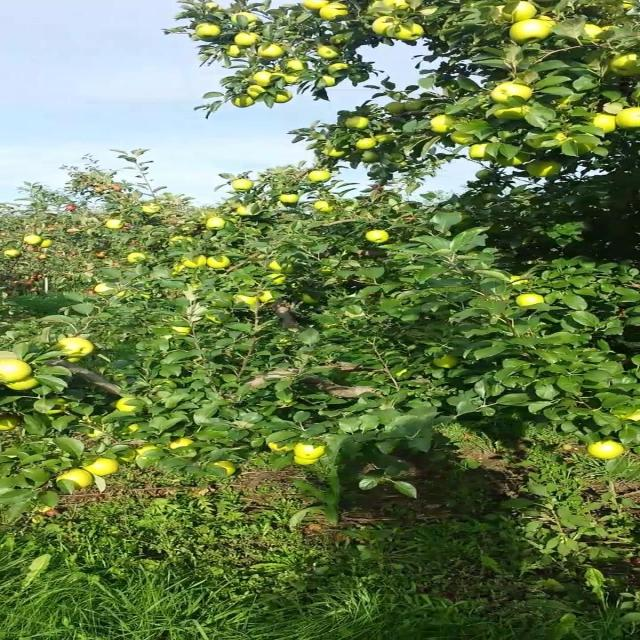apple: (0, 358, 40, 391), (489, 81, 533, 107), (509, 19, 551, 42), (496, 0, 536, 22), (560, 135, 600, 156), (58, 336, 96, 358), (524, 131, 569, 149), (0, 358, 31, 382), (609, 52, 640, 76), (587, 440, 624, 459), (58, 469, 93, 488), (524, 160, 562, 177), (391, 22, 424, 41), (84, 458, 118, 476), (491, 105, 529, 119), (293, 442, 324, 459), (320, 2, 349, 20), (371, 16, 398, 35), (616, 108, 640, 129), (496, 152, 531, 166), (553, 94, 583, 110), (580, 24, 604, 44), (431, 115, 456, 134), (193, 22, 222, 38), (229, 11, 258, 27), (591, 114, 616, 132), (611, 406, 640, 421), (433, 354, 460, 369), (582, 24, 604, 42), (44, 398, 67, 415), (258, 44, 284, 59), (116, 396, 140, 412), (209, 460, 236, 474), (233, 32, 260, 46), (449, 131, 476, 145), (7, 378, 40, 389), (469, 142, 489, 160), (251, 70, 273, 86), (364, 230, 389, 244), (231, 94, 256, 108), (516, 294, 544, 306), (207, 255, 231, 269), (316, 45, 340, 59), (344, 116, 369, 129), (182, 255, 207, 268), (233, 294, 260, 306), (204, 216, 227, 230), (267, 260, 293, 272), (322, 146, 347, 158), (384, 101, 407, 114), (93, 282, 116, 295), (380, 0, 409, 10), (307, 170, 331, 182), (329, 32, 351, 45), (302, 0, 330, 10), (273, 90, 293, 104), (247, 375, 267, 389), (118, 448, 138, 462), (373, 132, 396, 144), (284, 59, 307, 71), (204, 312, 227, 324), (356, 138, 378, 150), (231, 179, 253, 191), (236, 204, 258, 216), (136, 445, 160, 456), (247, 85, 267, 98), (318, 75, 338, 88), (267, 272, 287, 285), (118, 449, 138, 462), (404, 100, 427, 111), (313, 200, 333, 212), (169, 438, 193, 448), (142, 202, 162, 214), (360, 150, 380, 162), (391, 368, 411, 380), (300, 292, 320, 304), (349, 71, 369, 83), (536, 15, 556, 27), (267, 443, 293, 452), (224, 45, 242, 58), (598, 25, 616, 38), (44, 405, 67, 415), (278, 194, 300, 204), (22, 234, 42, 245), (327, 62, 349, 72), (104, 218, 124, 229), (258, 290, 276, 302), (282, 72, 300, 84), (127, 252, 147, 262), (293, 457, 318, 465), (591, 145, 609, 156), (169, 235, 193, 243), (2, 249, 22, 258), (509, 275, 529, 284), (618, 0, 636, 10), (200, 209, 220, 218), (171, 326, 191, 334), (171, 264, 187, 274), (204, 1, 220, 11), (127, 424, 140, 433), (40, 239, 53, 247), (67, 358, 82, 362)
